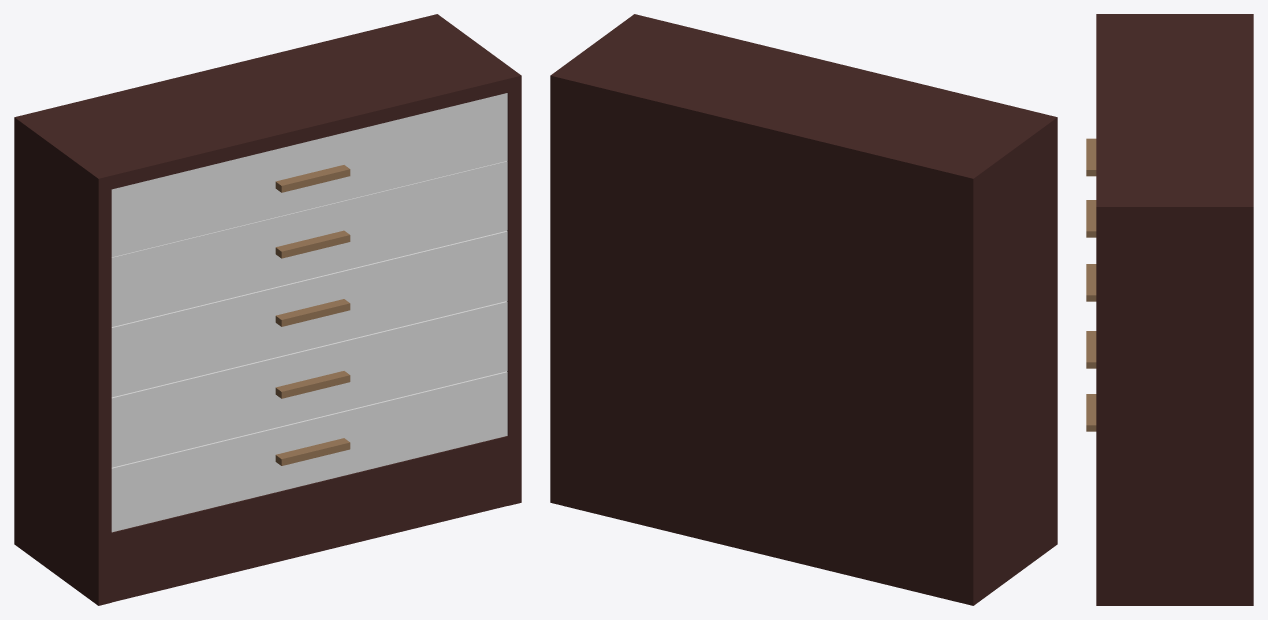
The picture shows the model from 3 angles, left to right: view 1: azimuth 30°, elevation 25°; view 2: azimuth 150°, elevation 25°; view 3: azimuth 270°, elevation 25°; orthographic projection. The views are drawn at different scales.
Visible parts, largest first — view 1: Cube.004, Cube.003, Cube.005, Cube.008, Cube.007, Cube.006, Cube.001, Cube.009, Cube.002, Cube.012, Cube.013, Cube.010 (+2 smaller); view 2: Cube, Cube.004, Cube.003, Cube.002; view 3: Cube.002, Cube.004, Cube.010, Cube.011, Cube.012, Cube.013, Cube.014.
Boxes of the visible parts, x1,y1,x2,y2 form: Cube.004: (14, 14, 521, 192); Cube.003: (14, 131, 111, 605); Cube.005: (111, 436, 508, 602); Cube.008: (111, 301, 507, 467); Cube.007: (111, 231, 507, 397); Cube.006: (111, 161, 507, 326); Cube.001: (111, 93, 507, 257); Cube.009: (111, 371, 507, 532); Cube.002: (507, 89, 521, 505); Cube.012: (275, 299, 350, 326); Cube.013: (275, 371, 350, 398); Cube.010: (275, 165, 350, 192); Cube: (563, 93, 960, 602); Cube.004: (550, 14, 1057, 192); Cube.003: (960, 131, 1057, 605); Cube.002: (550, 89, 563, 505); Cube.002: (1096, 219, 1253, 605); Cube.004: (1096, 14, 1253, 219); Cube.010: (1086, 138, 1096, 176); Cube.011: (1086, 200, 1096, 237); Cube.012: (1086, 264, 1096, 301); Cube.013: (1086, 331, 1096, 368); Cube.014: (1086, 394, 1096, 431).
Bounding box in the file's own units: 0.6387 × 0.6163 × 0.234.
